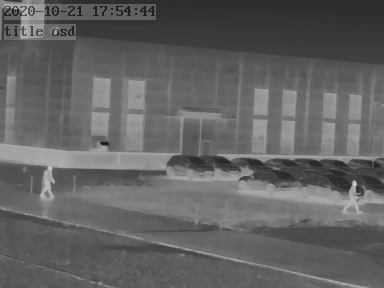person: (344, 179, 361, 213), (42, 163, 55, 198)
vehicle: (237, 170, 302, 196), (301, 172, 349, 201), (164, 153, 213, 179), (352, 174, 384, 203), (205, 153, 242, 177), (232, 154, 270, 171), (262, 155, 296, 170), (347, 156, 380, 171), (317, 156, 349, 170), (296, 155, 325, 169)
